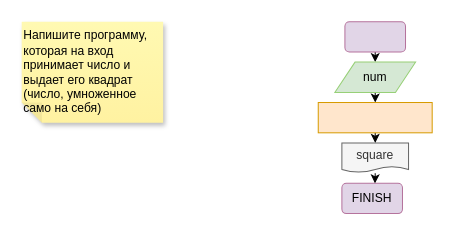
Image size: 449x231. Some labels were removed from this diagram. Each missing label, with the centre of its shape:
square = num * num: (374,117)
START: (375,36)
